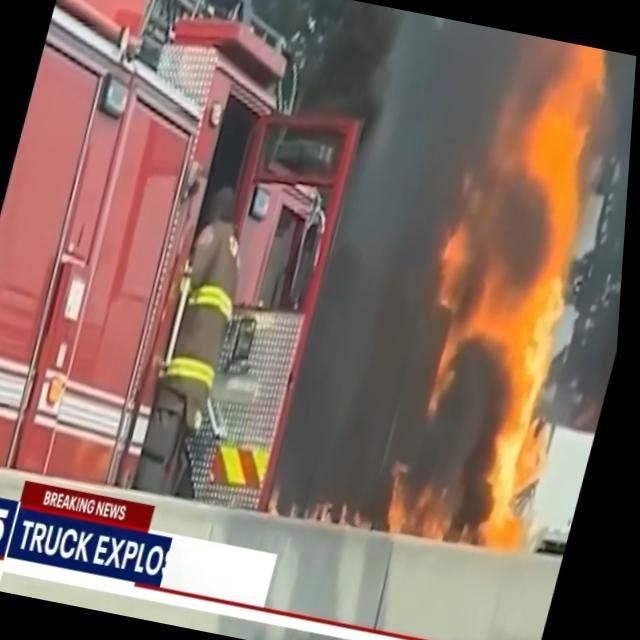fire: (374, 29, 638, 563), (210, 432, 276, 492)
